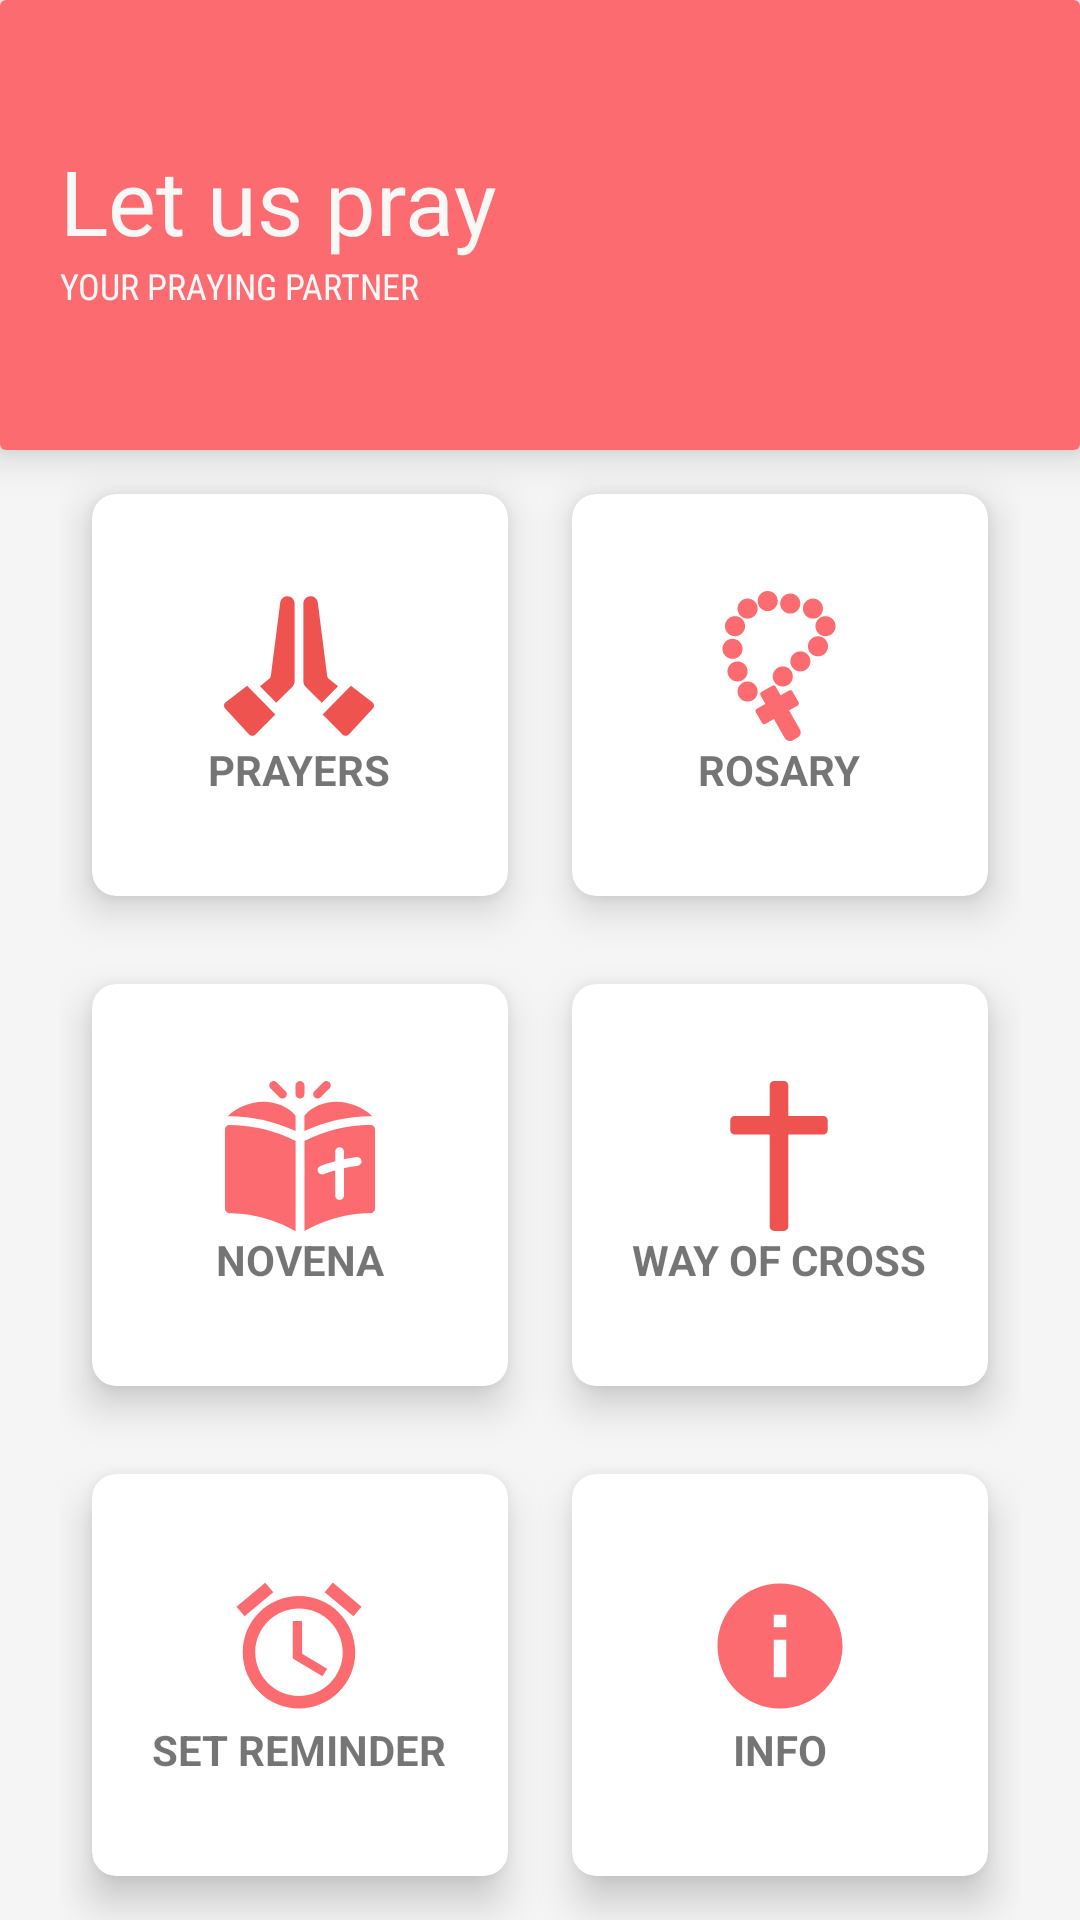

Icons on this 1080px×1920px Android screen, each with the point to tap as point (x, y):
alarm: point (299, 1645)
book: point (300, 1156)
